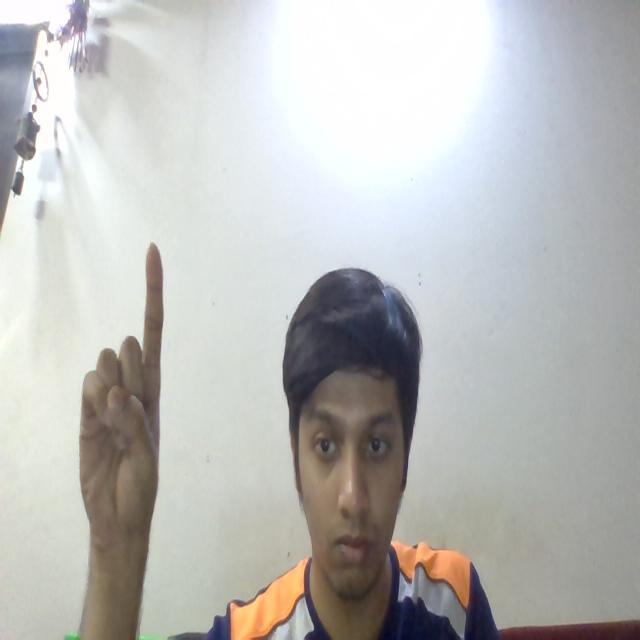Z: (61, 238, 192, 555)
